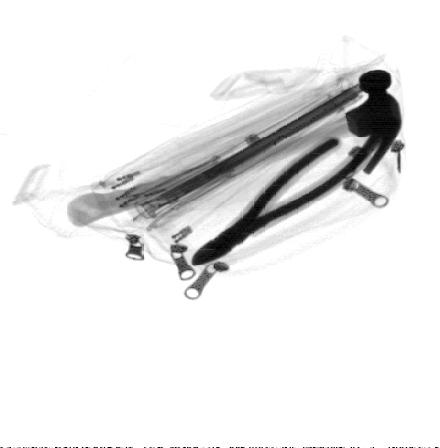Hammer: (67, 68, 403, 229)
Pliers: (192, 135, 373, 264)
